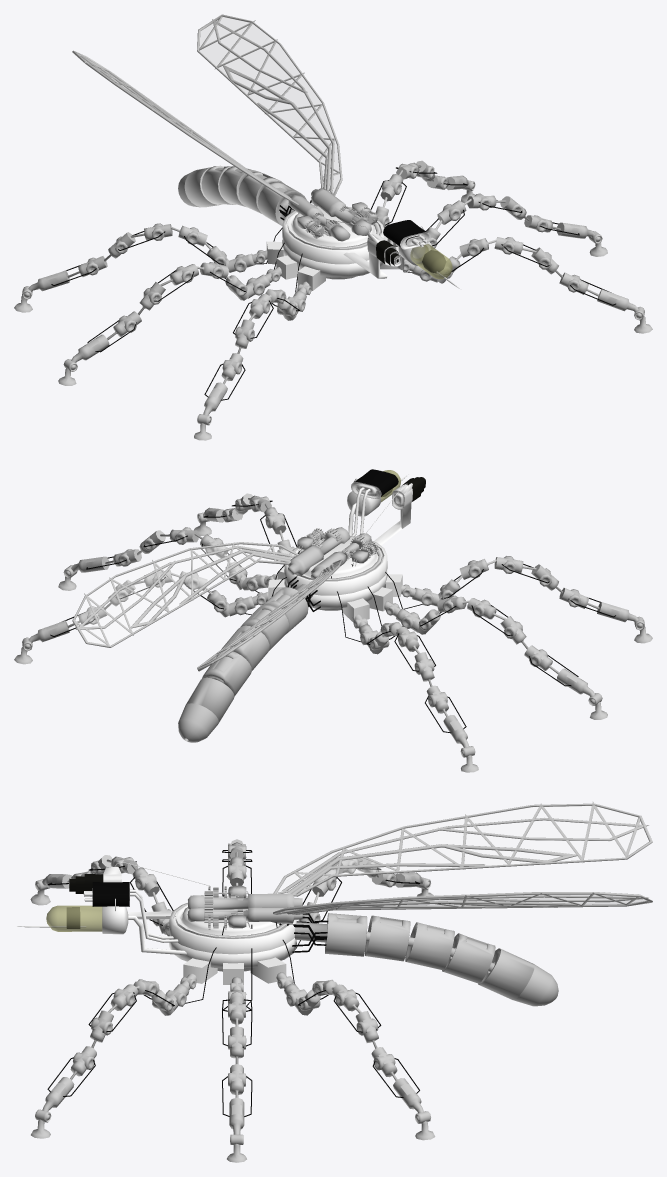
Rendered from drone.obj.
The picture shows the model from 3 angles, top to bottom: view 1: azimuth 30°, elevation 25°; view 2: azimuth 150°, elevation 25°; view 3: azimuth 270°, elevation 25°; orthographic projection. The views are drawn at different scales.
Parts seen in each view (by area): view 1: mesh01, object 3; view 2: mesh01, object 3; view 3: mesh01, object 3.
Part boxes in pixels (x1,y1,x2,y2): mesh01: (14, 14, 652, 440); object 3: (266, 205, 460, 290); mesh01: (14, 493, 652, 772); object 3: (268, 469, 425, 622); mesh01: (30, 801, 652, 1162); object 3: (16, 862, 296, 984).
Size of the model in its own units: 287 by 79.17 by 266.
